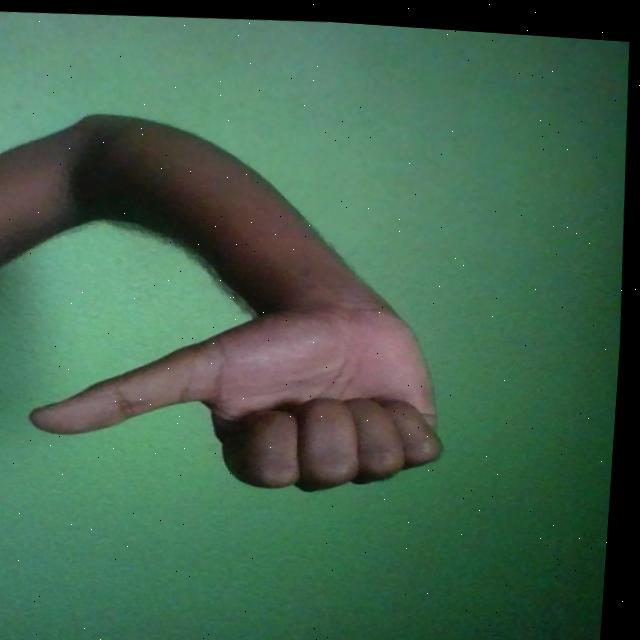Dislike: (24, 267, 462, 503)
